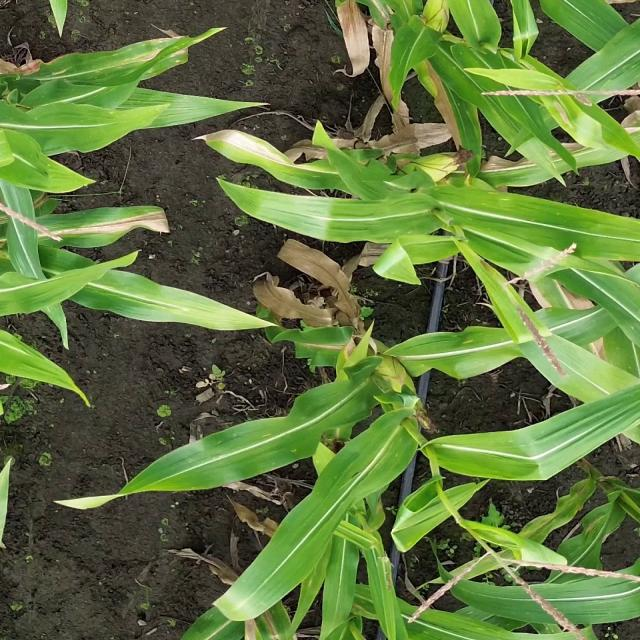northern-leaf-blight: (196, 127, 337, 189), (30, 200, 184, 249), (90, 44, 211, 88)
southern-leaf-blight: (248, 433, 404, 519), (470, 190, 602, 266), (432, 43, 501, 135)
